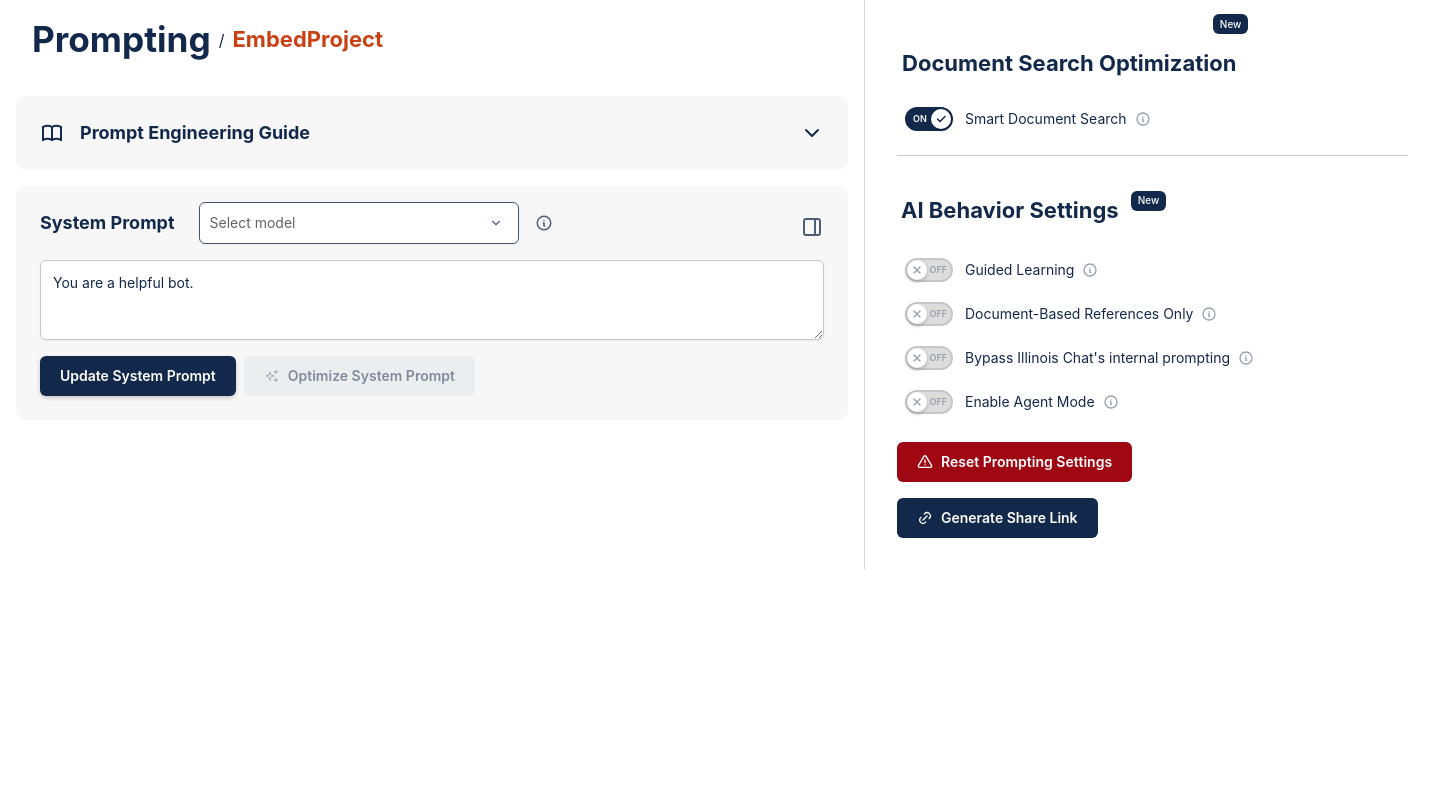
Test case: PromptEditorEmbed › Prompt Engineering Guide › expands on click
The width and height of the screenshot is (1440, 810).
Click the button "Prompt Engineering Guide" at (195, 132), box [40, 121, 824, 145]
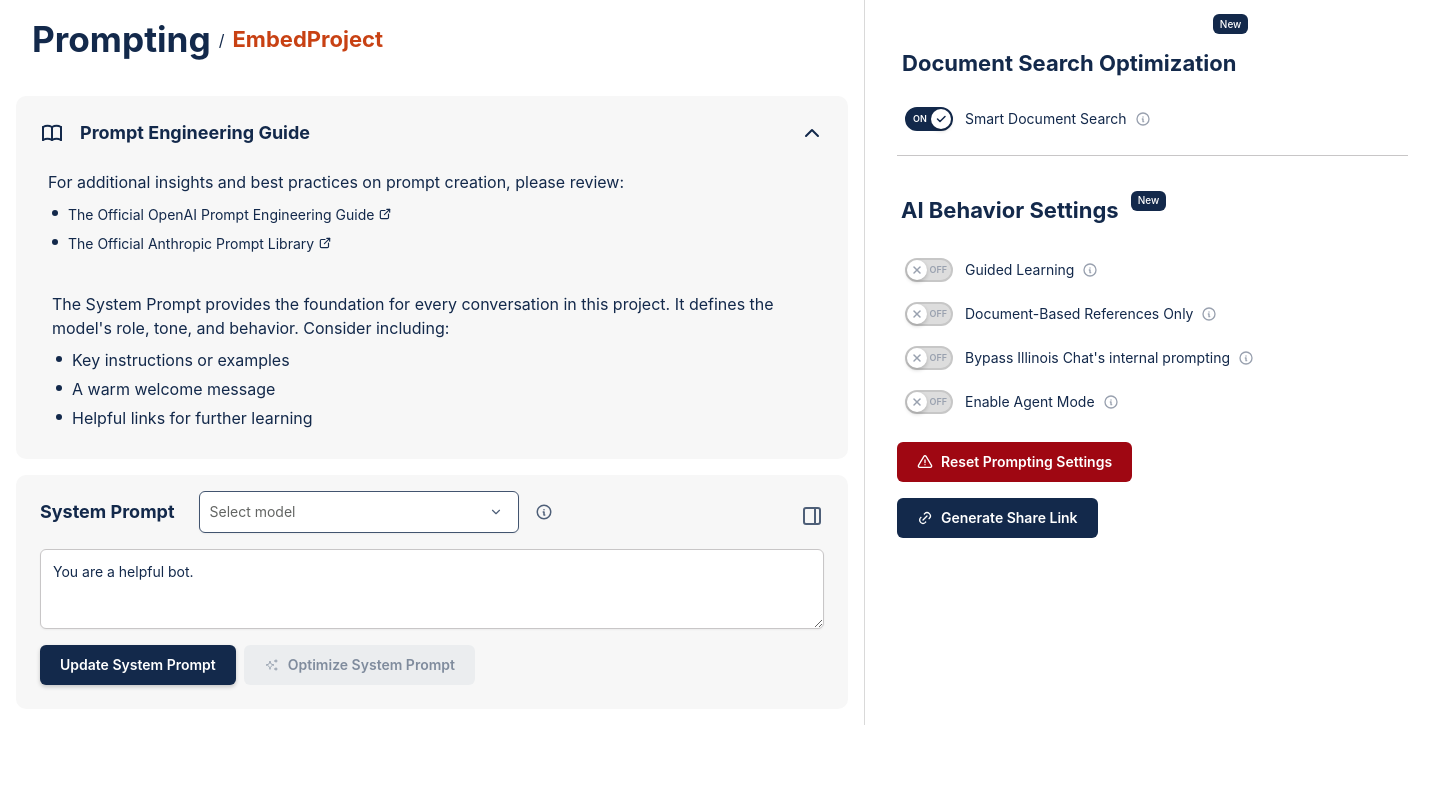
Expected: the text "For additional insights" is shown, [48, 172, 624, 192]
